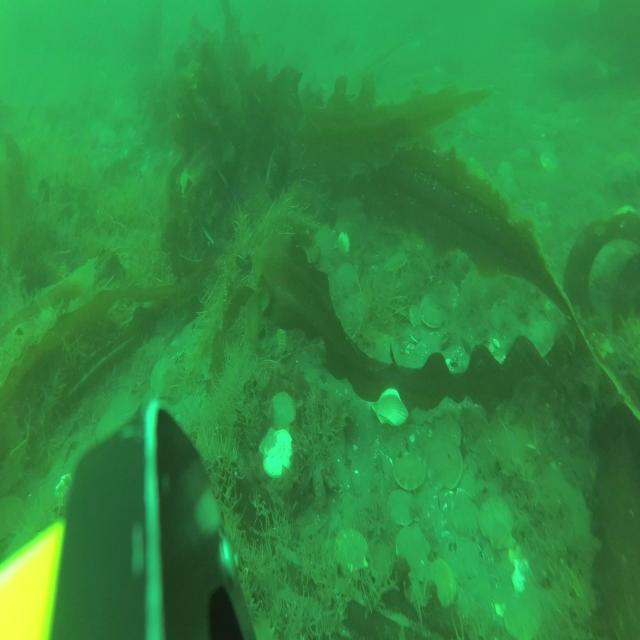scallop: (393, 523, 432, 583), (477, 493, 516, 551), (504, 589, 544, 640), (258, 426, 295, 480), (332, 525, 369, 577), (369, 386, 412, 429), (427, 556, 457, 609), (433, 442, 463, 492), (392, 451, 427, 492), (270, 388, 297, 434), (386, 487, 417, 527), (150, 358, 178, 399), (419, 293, 447, 330), (437, 417, 463, 453), (336, 259, 360, 292), (382, 252, 409, 276), (540, 146, 560, 174), (272, 326, 289, 356), (406, 302, 422, 330)
